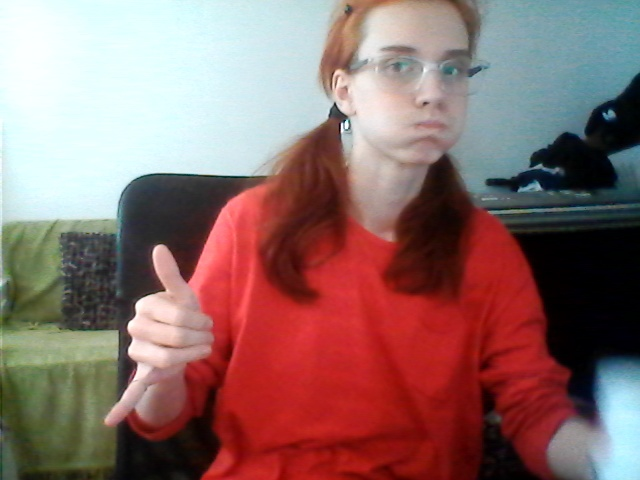ano: (103, 241, 225, 435)
